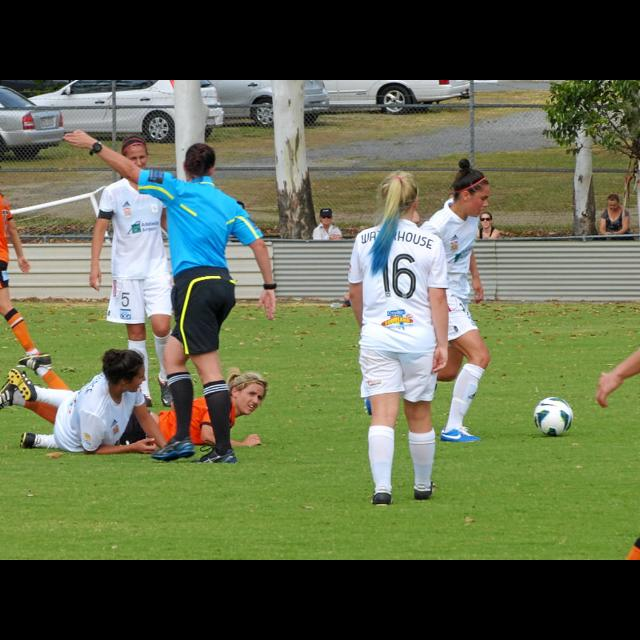Football: (535, 394, 571, 436)
